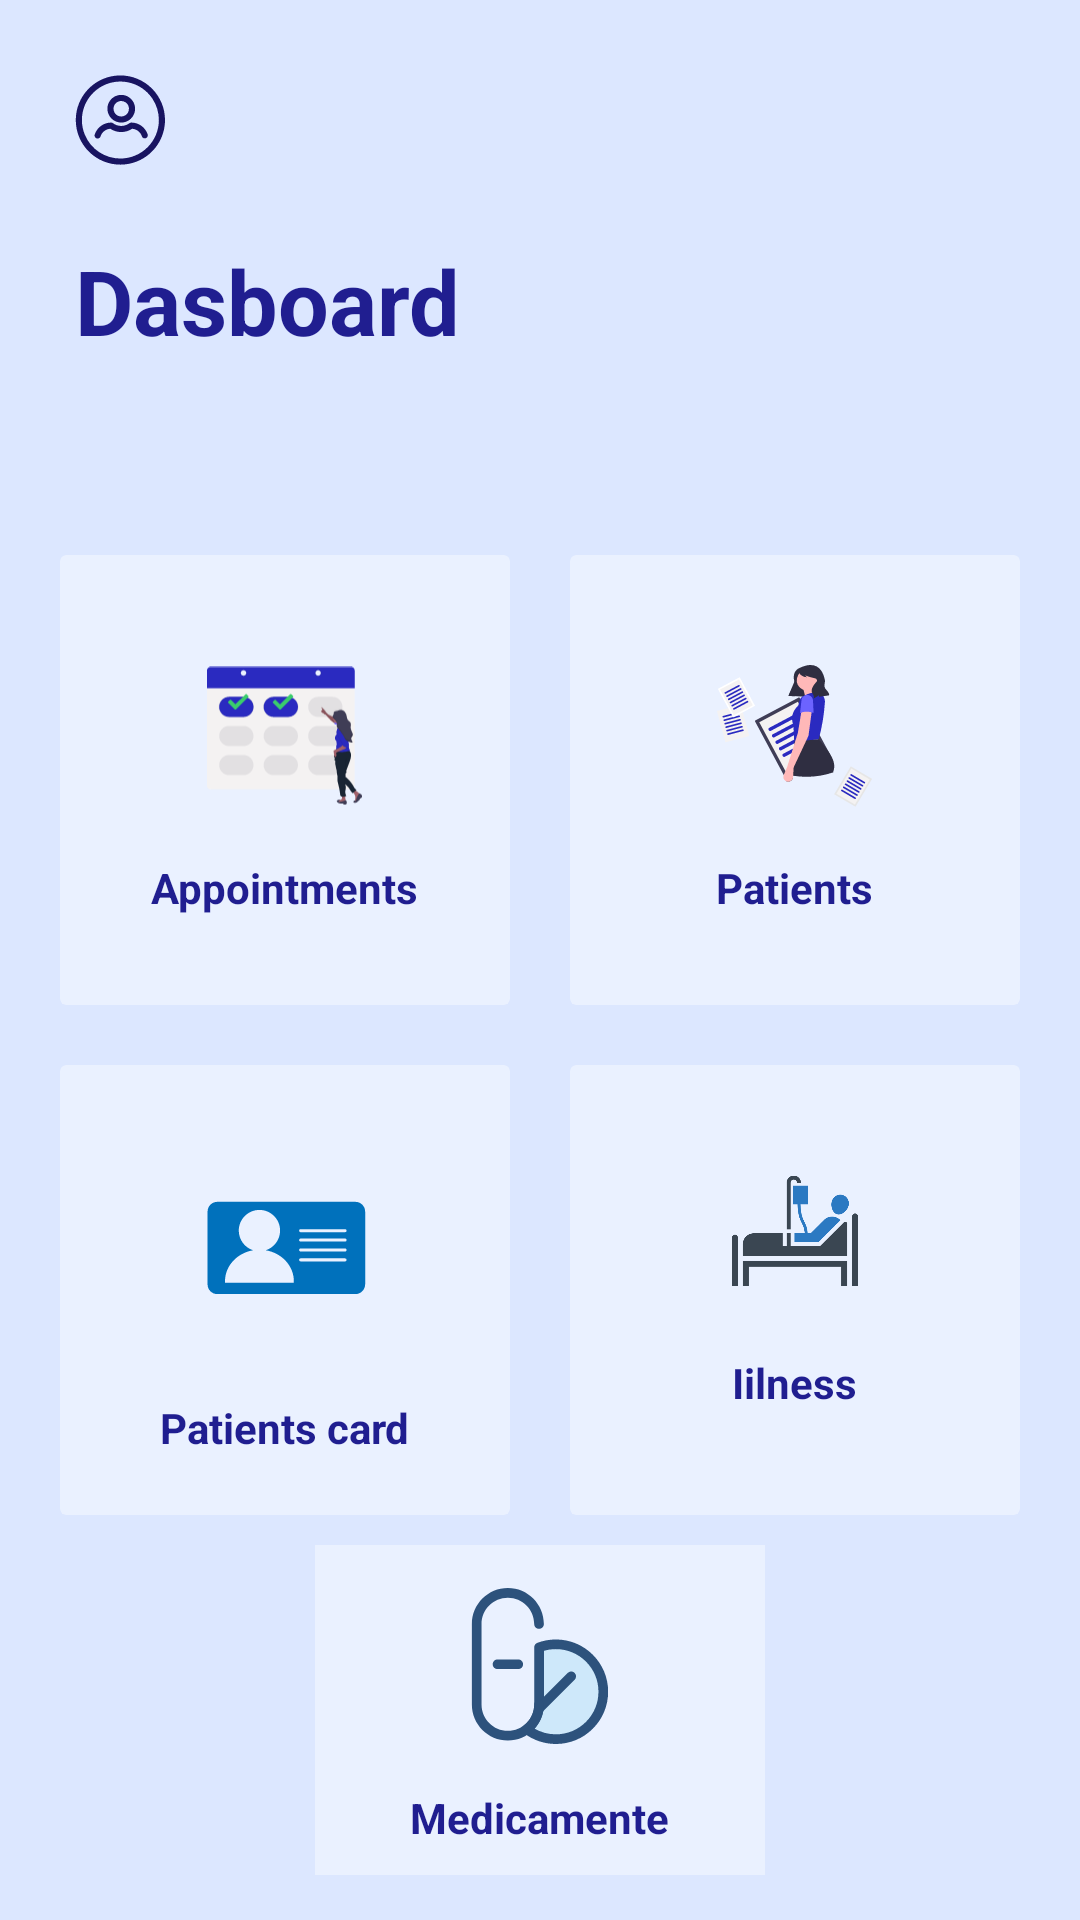

Where to tap for icons on this 1080px x 1920px app screen, as (x=x, y=y):
appointement: (x=284, y=735)
illness: (x=795, y=1231)
patient card: (x=286, y=1247)
User settings: (x=120, y=120)
